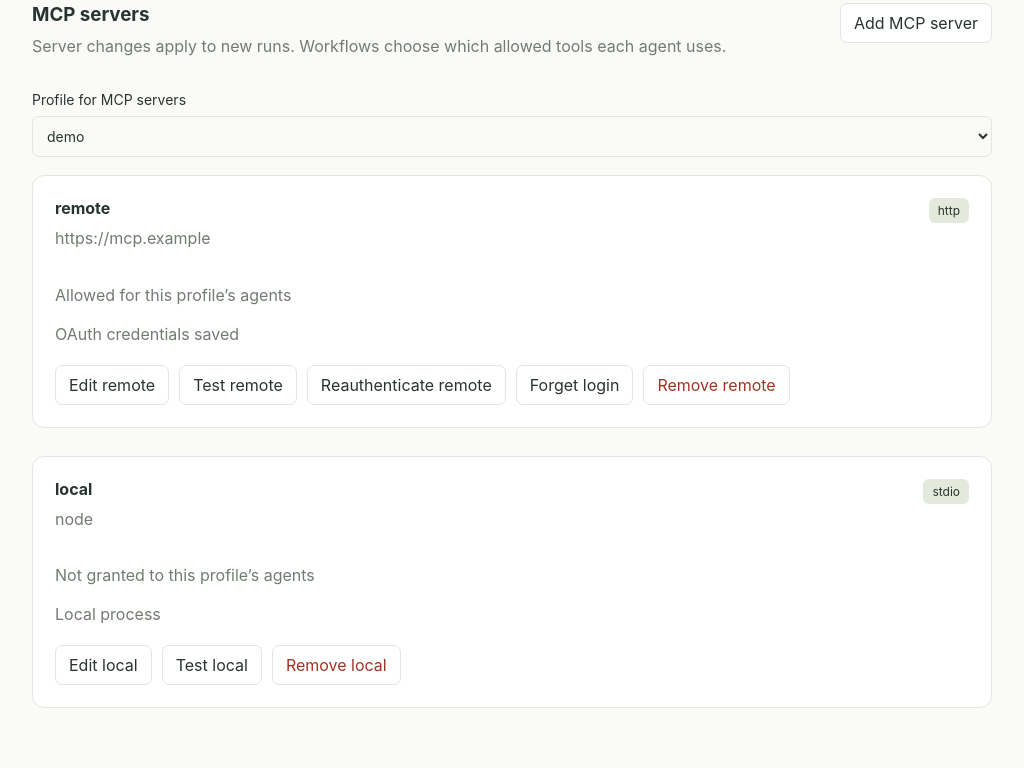
Scenario: keeps edits open on a conflicting save and lets the user cancel
(page scrolled)
Expected: the dropdown labelled "Profile for MCP servers" is shown, [32,116,992,157]
Click the button "Edit remote" at x=112, y=384, box [55,364,169,404]
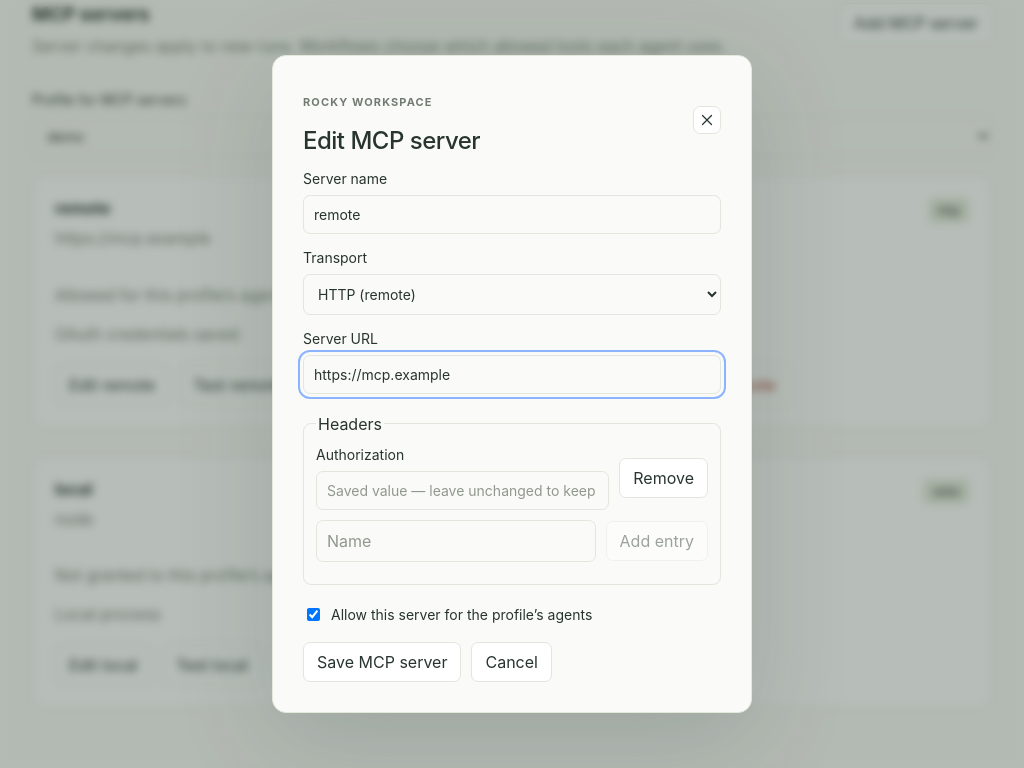
Click the button "Save MCP server" at x=382, y=662, box [303,642,462,682]
(page scrolled)
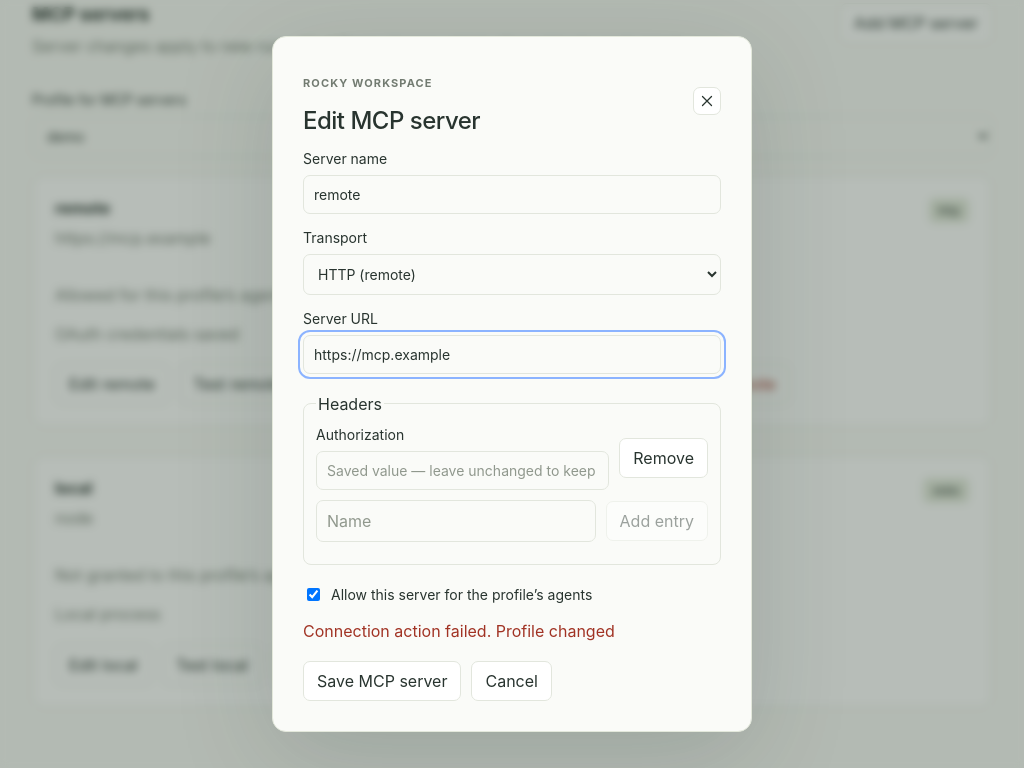
Expected: the message shows "Profile changed", [303,621,615,641]
Click the button "Cancel" at x=512, y=681, box [472,661,552,701]
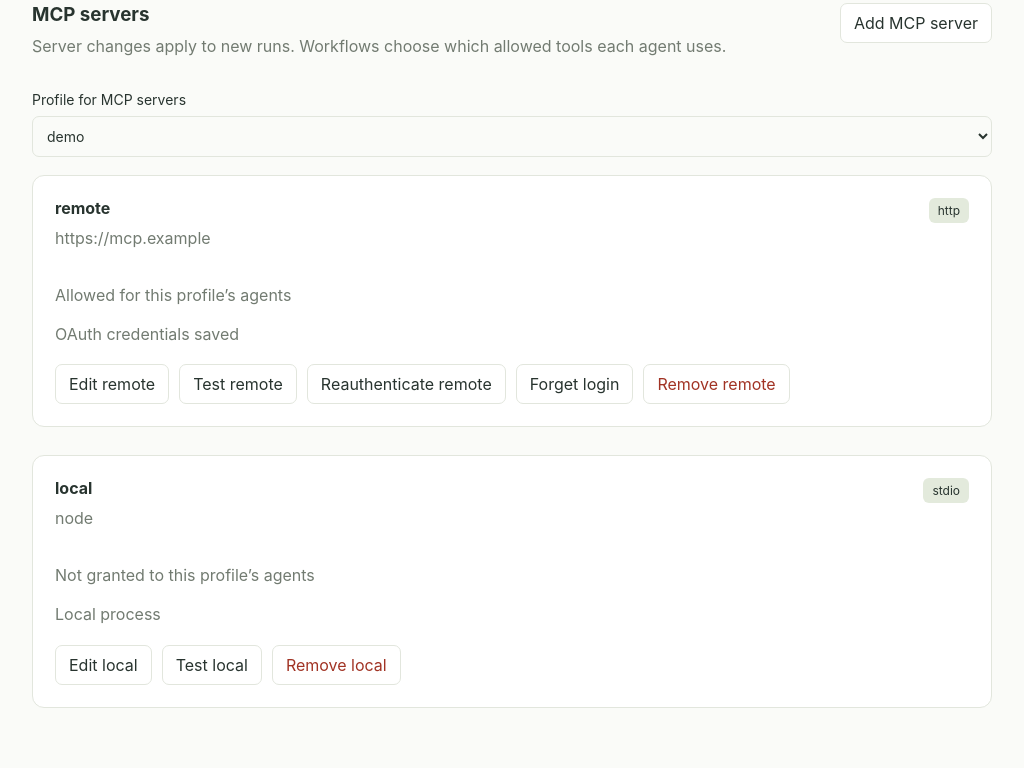
Expected: the dialog is gone
